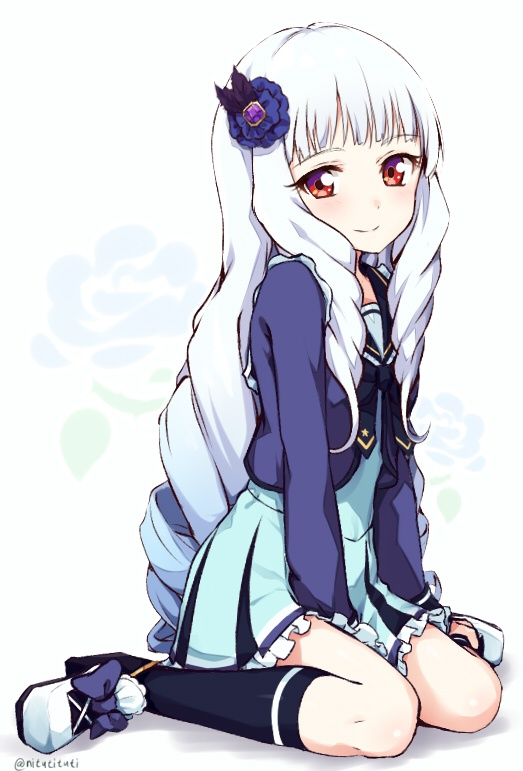纸片人正脸: (216, 17, 444, 262)
